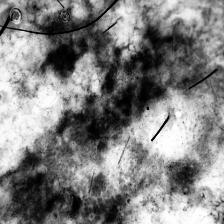Benign Marking or Mole: (6, 17, 220, 224)
